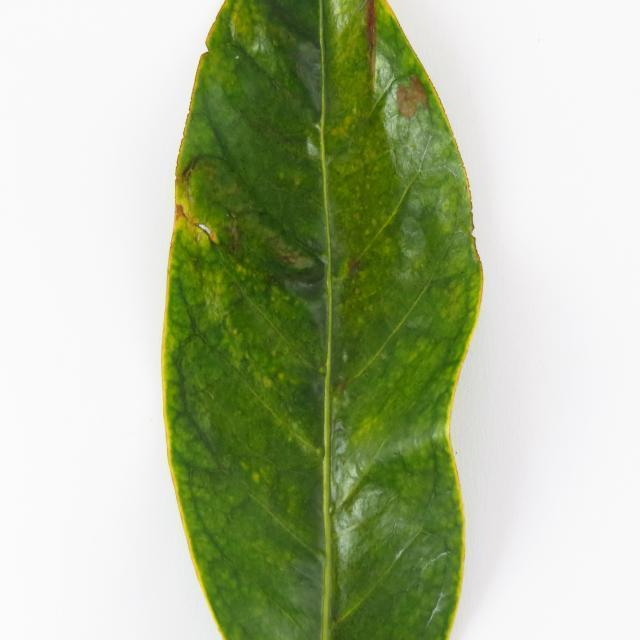DeficienciaNutricional-Manganeso: (162, 0, 482, 638)
